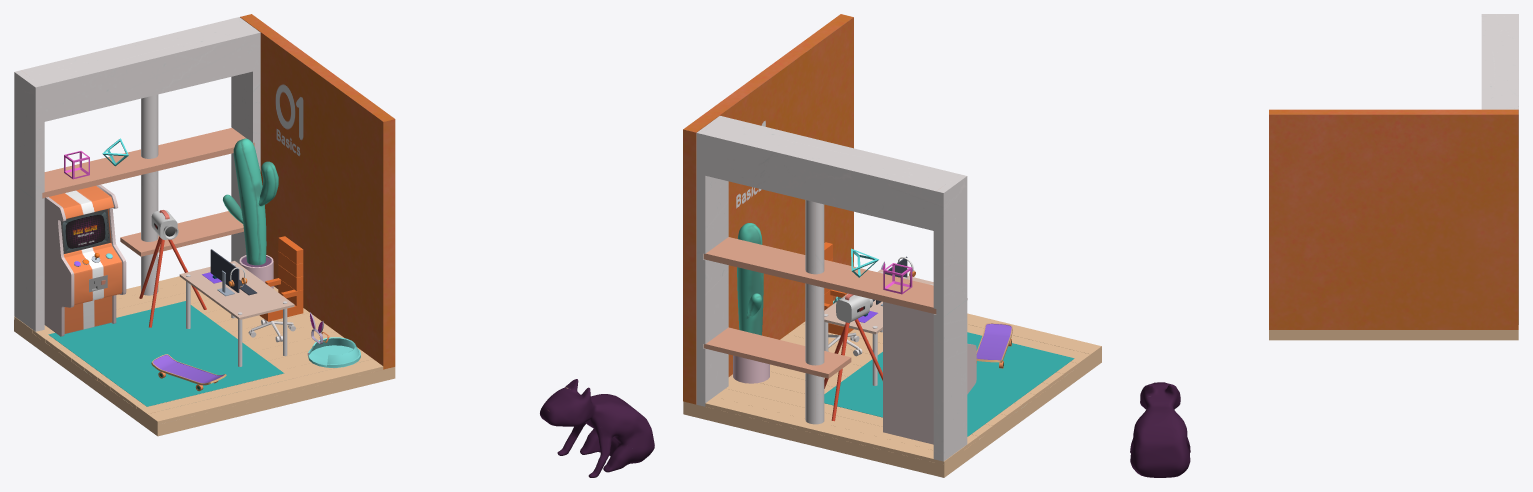
The model's file is DioramaBlenderTextures.glb.
3 renders of one model, left to right at view 1: azimuth 30°, elevation 25°; view 2: azimuth 150°, elevation 25°; view 3: azimuth 270°, elevation 25°, orthographic. The views are drawn at different scales.
Visible parts, largest first — view 1: Pared_low, Estanteria_Low, Alfiombra_low, Maquina_low, PerroO_low, Suelo_low, Estanteria_low, Cactus_low, TablonSuelo_low, Columna_low, Mesa_low, Estanteria_02_low (+11 smaller); view 2: Estanteria_Low, Pared_low, Maquina_low, Alfiombra_low, Estanteria_low, Suelo_low, Columna_low, Estanteria_02_low, TablonSuelo_low.011, TablonSuelo_low.010, Cactus_low, TablonSuelo_low.009 (+13 smaller); view 3: Pared_low, PerroO_low, Estanteria_Low, Suelo_low.
Part boxes in pixels (bbox=[...]): Pared_low: bbox=[240, 14, 395, 369]; Estanteria_Low: bbox=[14, 17, 260, 331]; Alfiombra_low: bbox=[48, 301, 284, 406]; Maquina_low: bbox=[44, 184, 126, 336]; PerroO_low: bbox=[540, 379, 654, 477]; Suelo_low: bbox=[14, 320, 395, 436]; Estanteria_low: bbox=[42, 128, 254, 198]; Cactus_low: bbox=[223, 138, 278, 265]; TablonSuelo_low: bbox=[147, 359, 383, 424]; Columna_low: bbox=[141, 94, 158, 295]; Mesa_low: bbox=[179, 261, 294, 319]; Estanteria_02_low: bbox=[120, 211, 243, 256]; Estanteria_Low: bbox=[696, 116, 967, 461]; Pared_low: bbox=[683, 14, 853, 404]; Maquina_low: bbox=[883, 277, 976, 444]; Alfiombra_low: bbox=[824, 332, 1074, 436]; Estanteria_low: bbox=[703, 237, 936, 314]; Suelo_low: bbox=[683, 350, 1101, 477]; Columna_low: bbox=[805, 200, 824, 424]; Estanteria_02_low: bbox=[703, 327, 851, 378]; TablonSuelo_low.011: bbox=[705, 397, 952, 464]; TablonSuelo_low.010: bbox=[714, 388, 964, 458]; Cactus_low: bbox=[737, 223, 763, 335]; TablonSuelo_low.009: bbox=[726, 376, 978, 449]; Pared_low: bbox=[1269, 109, 1518, 329]; PerroO_low: bbox=[1130, 382, 1190, 477]; Estanteria_Low: bbox=[1481, 14, 1518, 324]; Suelo_low: bbox=[1269, 330, 1518, 340].
Bounding box in the file's own units: 53.35 × 39.93 × 48.78.
Materials: 1 (1 with a texture image).
